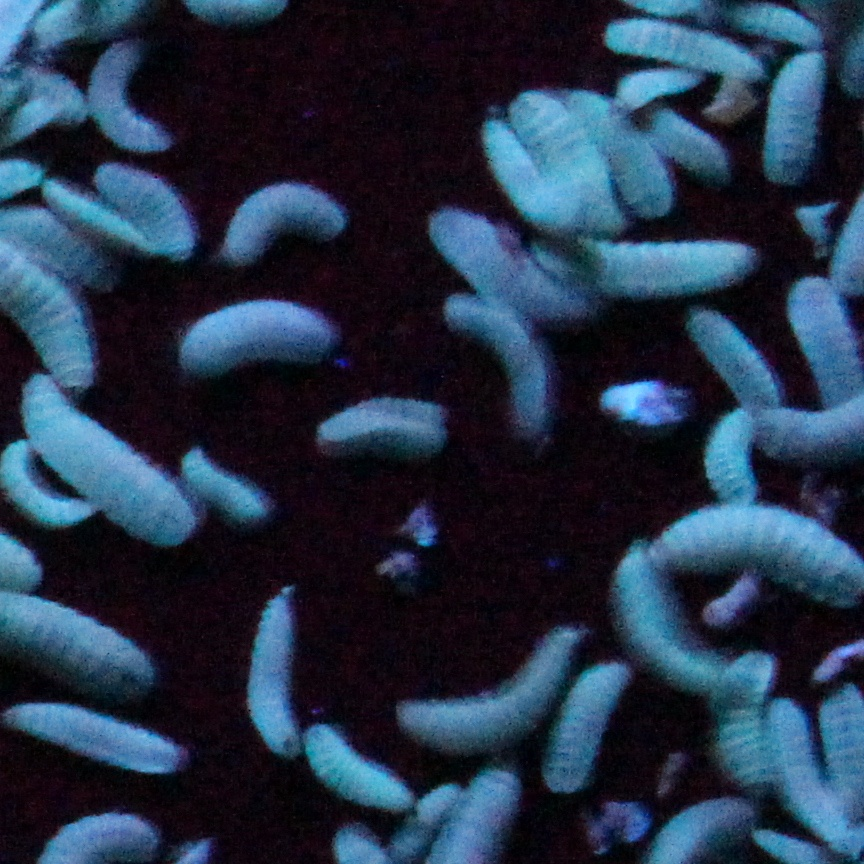larve: (604, 536, 772, 711), (647, 493, 859, 613), (27, 388, 194, 538), (394, 636, 584, 756), (564, 211, 754, 306), (509, 91, 622, 233), (67, 156, 197, 278), (179, 286, 337, 383), (444, 218, 589, 323), (447, 306, 559, 436), (772, 698, 859, 863), (224, 156, 352, 268), (12, 688, 179, 773), (312, 713, 417, 836), (564, 86, 669, 203), (609, 11, 772, 86), (472, 113, 574, 231), (687, 311, 787, 423), (84, 36, 167, 158), (759, 53, 832, 188), (314, 388, 447, 458), (649, 101, 742, 193), (249, 591, 297, 753), (704, 388, 759, 526), (177, 451, 269, 528), (754, 398, 857, 461)
